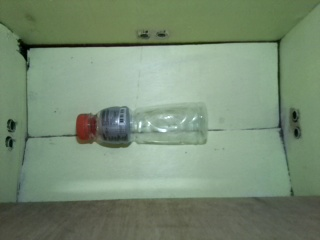bottle: (74, 100, 210, 148)
